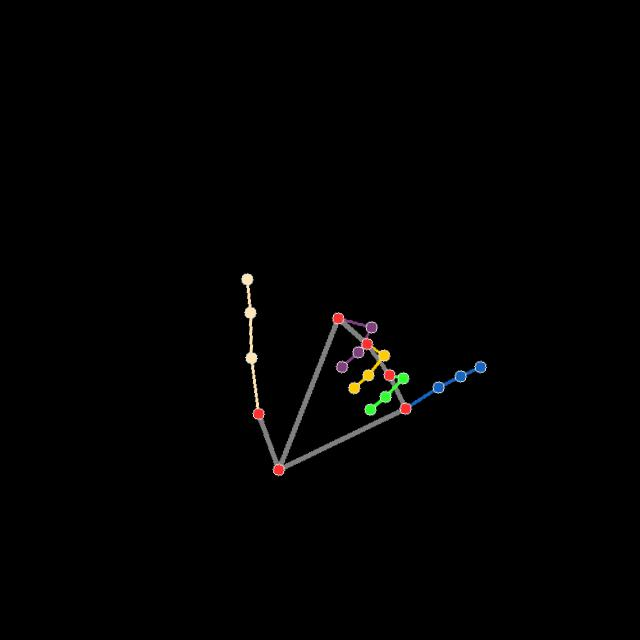skr: (240, 269, 496, 478)
